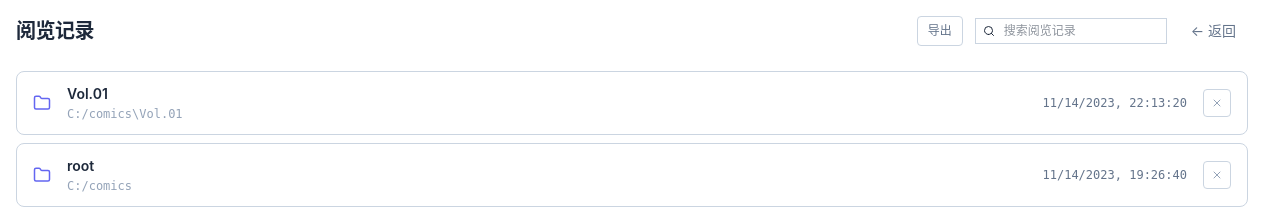
History.vue › 搜索：输入子串即时过滤，清空恢复
Expected: the number of list items with test id "row" is 2, [16,71,1248,135]; [16,143,1248,207]
Type "vol" into the field with test id "list-search-input". click: {"x": 1071, "y": 31}
box: [975,18,1167,44]
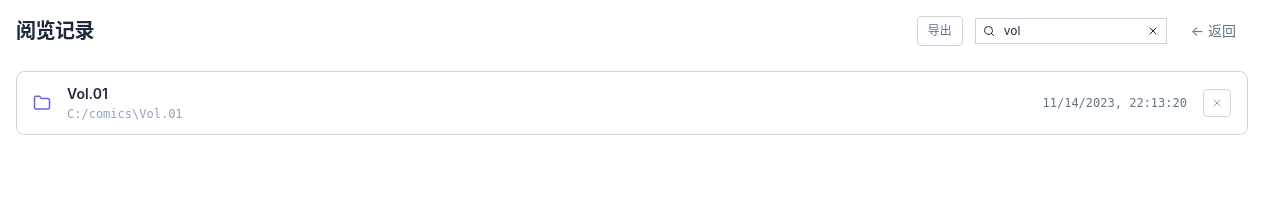
Expected: the list item with test id "row" shows "Vol.01", [67,84,1026,104]
Now the number of list items with test id "row" is 1, box [16,71,1248,135]
Clear the field with test id "list-search-input". click: {"x": 1071, "y": 31}
box: [975,18,1167,44]
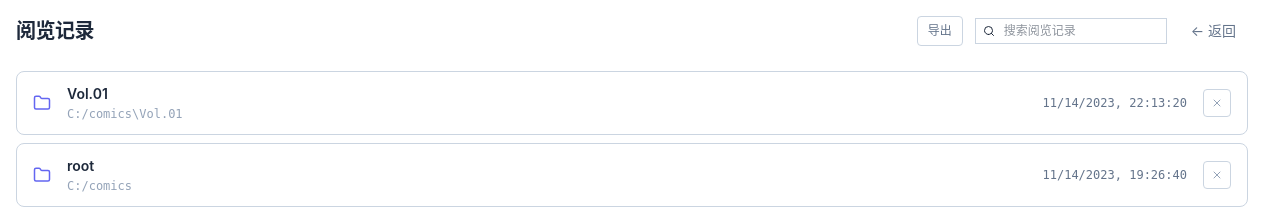
Now the number of list items with test id "row" is 2, box [16,71,1248,135]; [16,143,1248,207]
